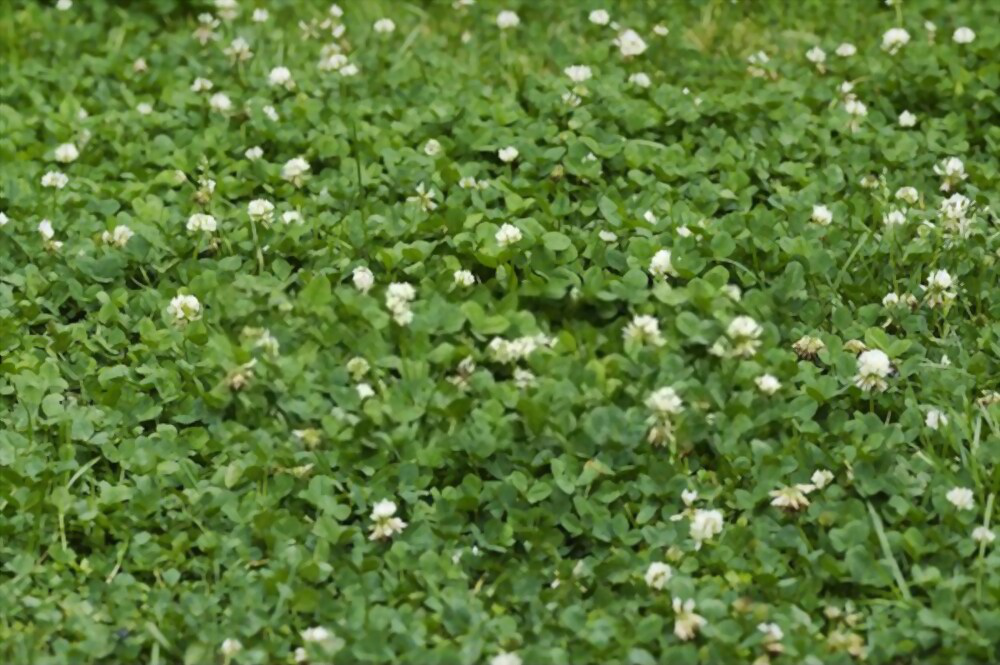clover: (7, 11, 993, 642)
